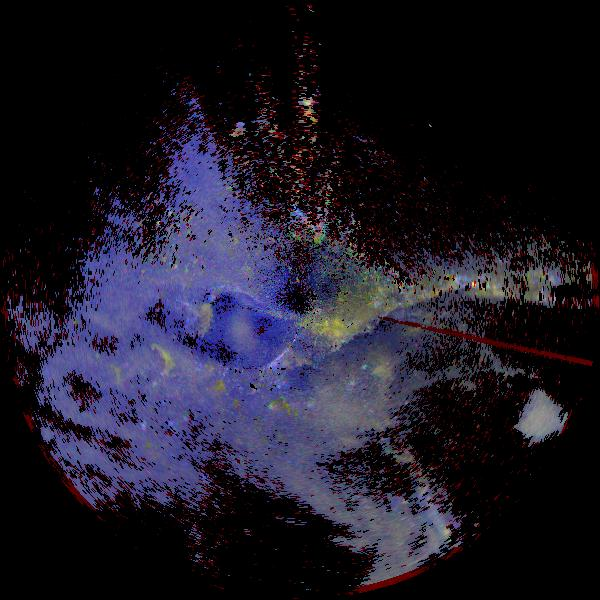roost: (167, 292, 230, 355), (136, 335, 193, 392)
